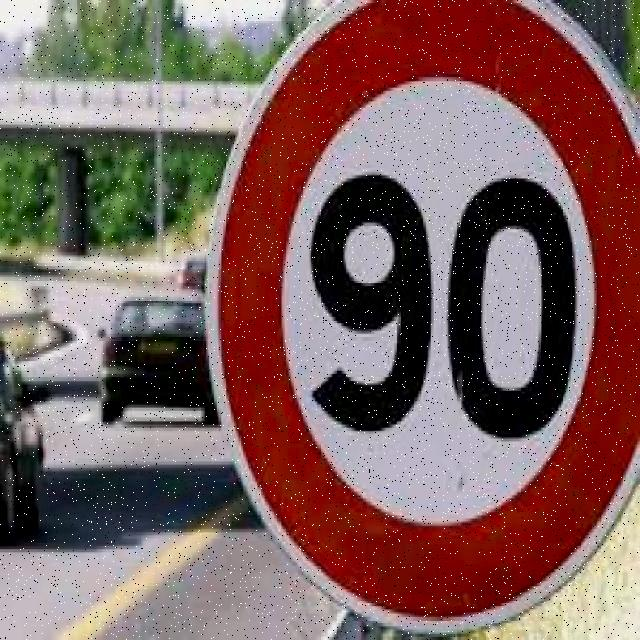Ograniczenie predkosci do 90: (221, 0, 640, 622)
